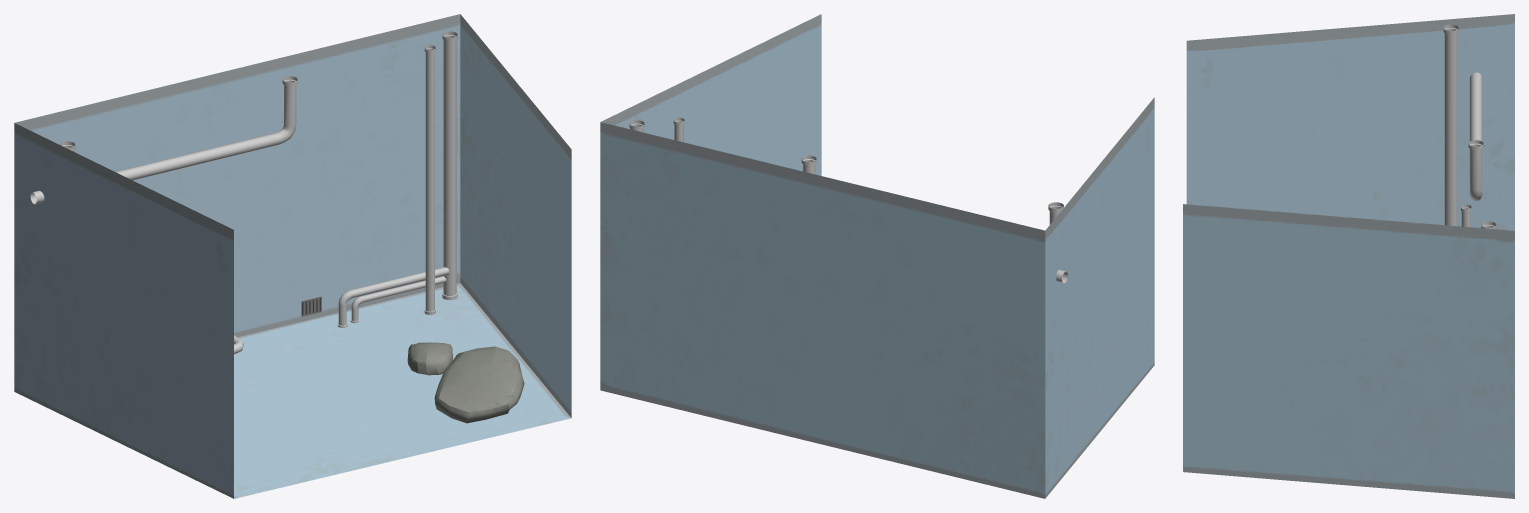
File: ExpLab_Interior00.fbx
3 views of the same model, side by side, from view 1: azimuth 30°, elevation 25°; view 2: azimuth 150°, elevation 25°; view 3: azimuth 270°, elevation 25° (orthographic).
Parts seen in each view (by area): view 1: ExpLab_Interior00, Rock00, ExpLab_Pipe07, ExpLab_Pipe02, ExpLab_Pipe06, Rock01, ExpLab_Pipe04, ExpLab_Pipe05; view 2: ExpLab_Interior00; view 3: ExpLab_Interior00, ExpLab_Pipe03, ExpLab_Pipe02.
Part boxes in pixels (<box>): ExpLab_Interior00: <box>14,14,571,498</box>; Rock00: <box>434,346,524,423</box>; ExpLab_Pipe07: <box>442,31,457,300</box>; ExpLab_Pipe02: <box>30,76,297,204</box>; ExpLab_Pipe06: <box>424,45,435,314</box>; Rock01: <box>407,342,452,375</box>; ExpLab_Pipe04: <box>337,267,449,327</box>; ExpLab_Pipe05: <box>350,276,446,323</box>; ExpLab_Interior00: <box>600,14,1154,498</box>; ExpLab_Interior00: <box>1183,14,1514,498</box>; ExpLab_Pipe03: <box>1443,24,1458,226</box>; ExpLab_Pipe02: <box>1468,72,1483,200</box>.
Size of the model in its own units: 3460 by 2017 by 2235.
